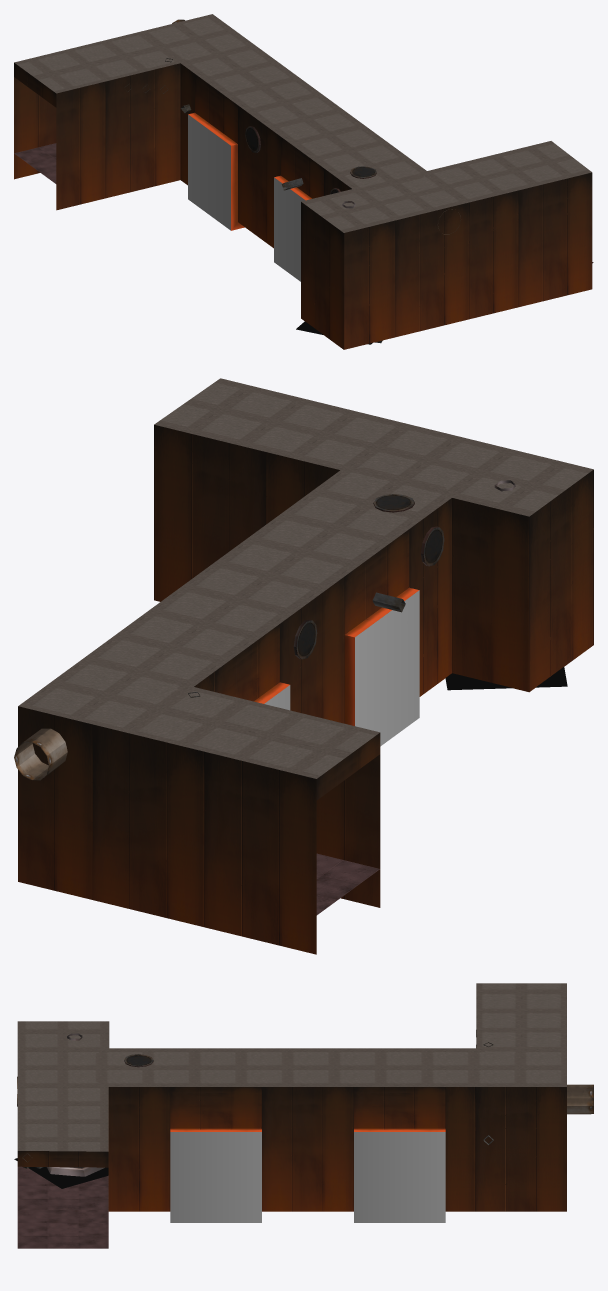
The model's file is molten_connector_straight.fbx.
The picture shows the model from 3 angles, top to bottom: view 1: azimuth 30°, elevation 25°; view 2: azimuth 150°, elevation 25°; view 3: azimuth 270°, elevation 25°; orthographic projection. The views are drawn at different scales.
Visible parts, largest first — view 1: Wall, Floor, Bearings; view 2: Wall, Bearings, Floor, Boiler; view 3: Wall, Floor, Boiler, Bearings.
Boxes of the visible parts, box(x1,y1,x2,y2) form: Wall: box(14, 14, 592, 349); Floor: box(14, 143, 593, 263); Bearings: box(172, 19, 460, 234); Wall: box(18, 378, 593, 954); Bearings: box(14, 494, 444, 780); Floor: box(316, 853, 379, 915); Boiler: box(445, 480, 567, 690); Wall: box(17, 983, 566, 1222); Floor: box(17, 1166, 108, 1248); Boiler: box(14, 1033, 108, 1188); Bearings: box(17, 1054, 593, 1114).
Size of what is drawn, in the model's own units: 1981 by 738 by 2887.
